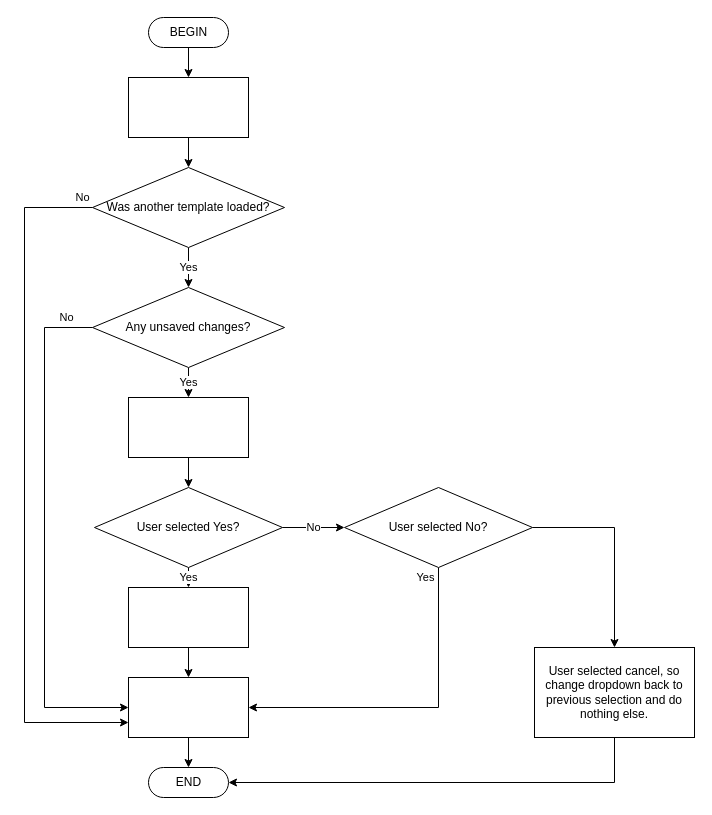
Some shapes in this 712 by 815 pixel diagram are drawn without their labels. Each missing label, with the centre of its shape:
"Ask user if they want to save changes, give yes, no, and cancel options" goes at point 188,427.
"Load new template" goes at point 188,707.
"Save changes to current template" goes at point 188,617.
"Template Selection is changed" goes at point 188,107.
